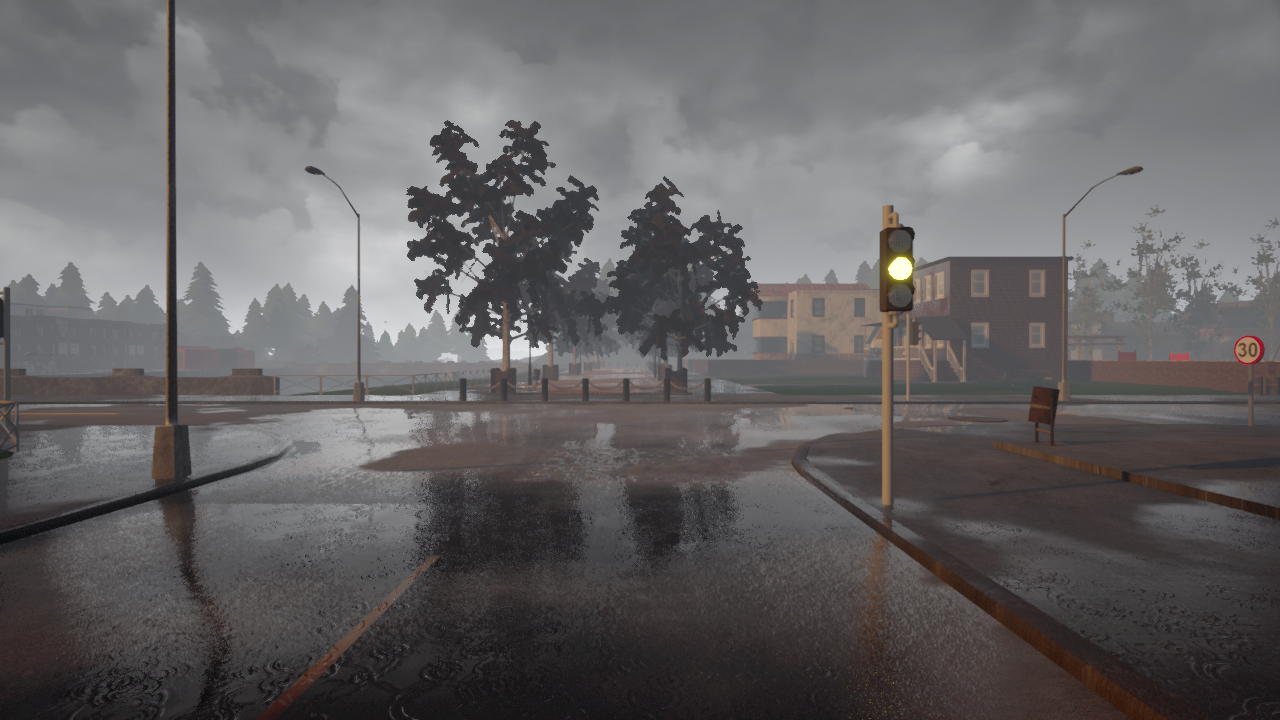yellow: (877, 222, 918, 310)
